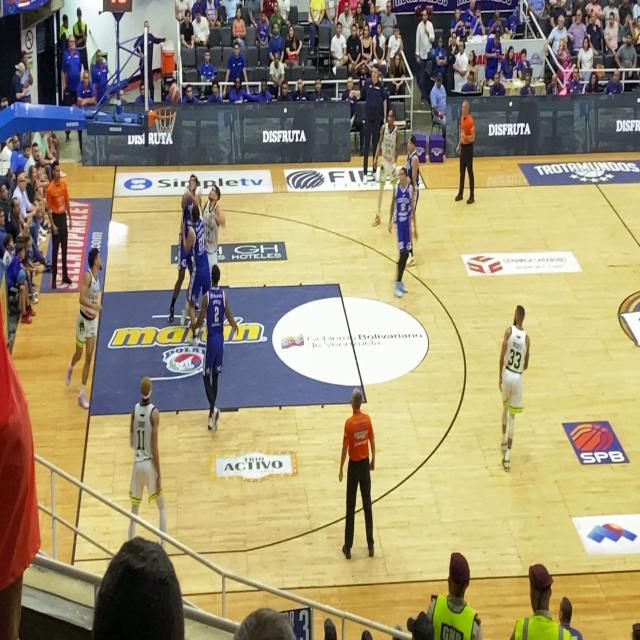Ball: (166, 76, 181, 106)
referee: (330, 376, 389, 576), (40, 151, 76, 304), (449, 90, 481, 212)
team1: (115, 372, 177, 541), (489, 288, 531, 486), (60, 231, 101, 415), (370, 103, 398, 240), (201, 181, 224, 280)
team2: (196, 264, 237, 433), (388, 158, 413, 298), (180, 208, 210, 312), (170, 159, 200, 227), (406, 130, 422, 248)
ubasket: (154, 104, 178, 140)
